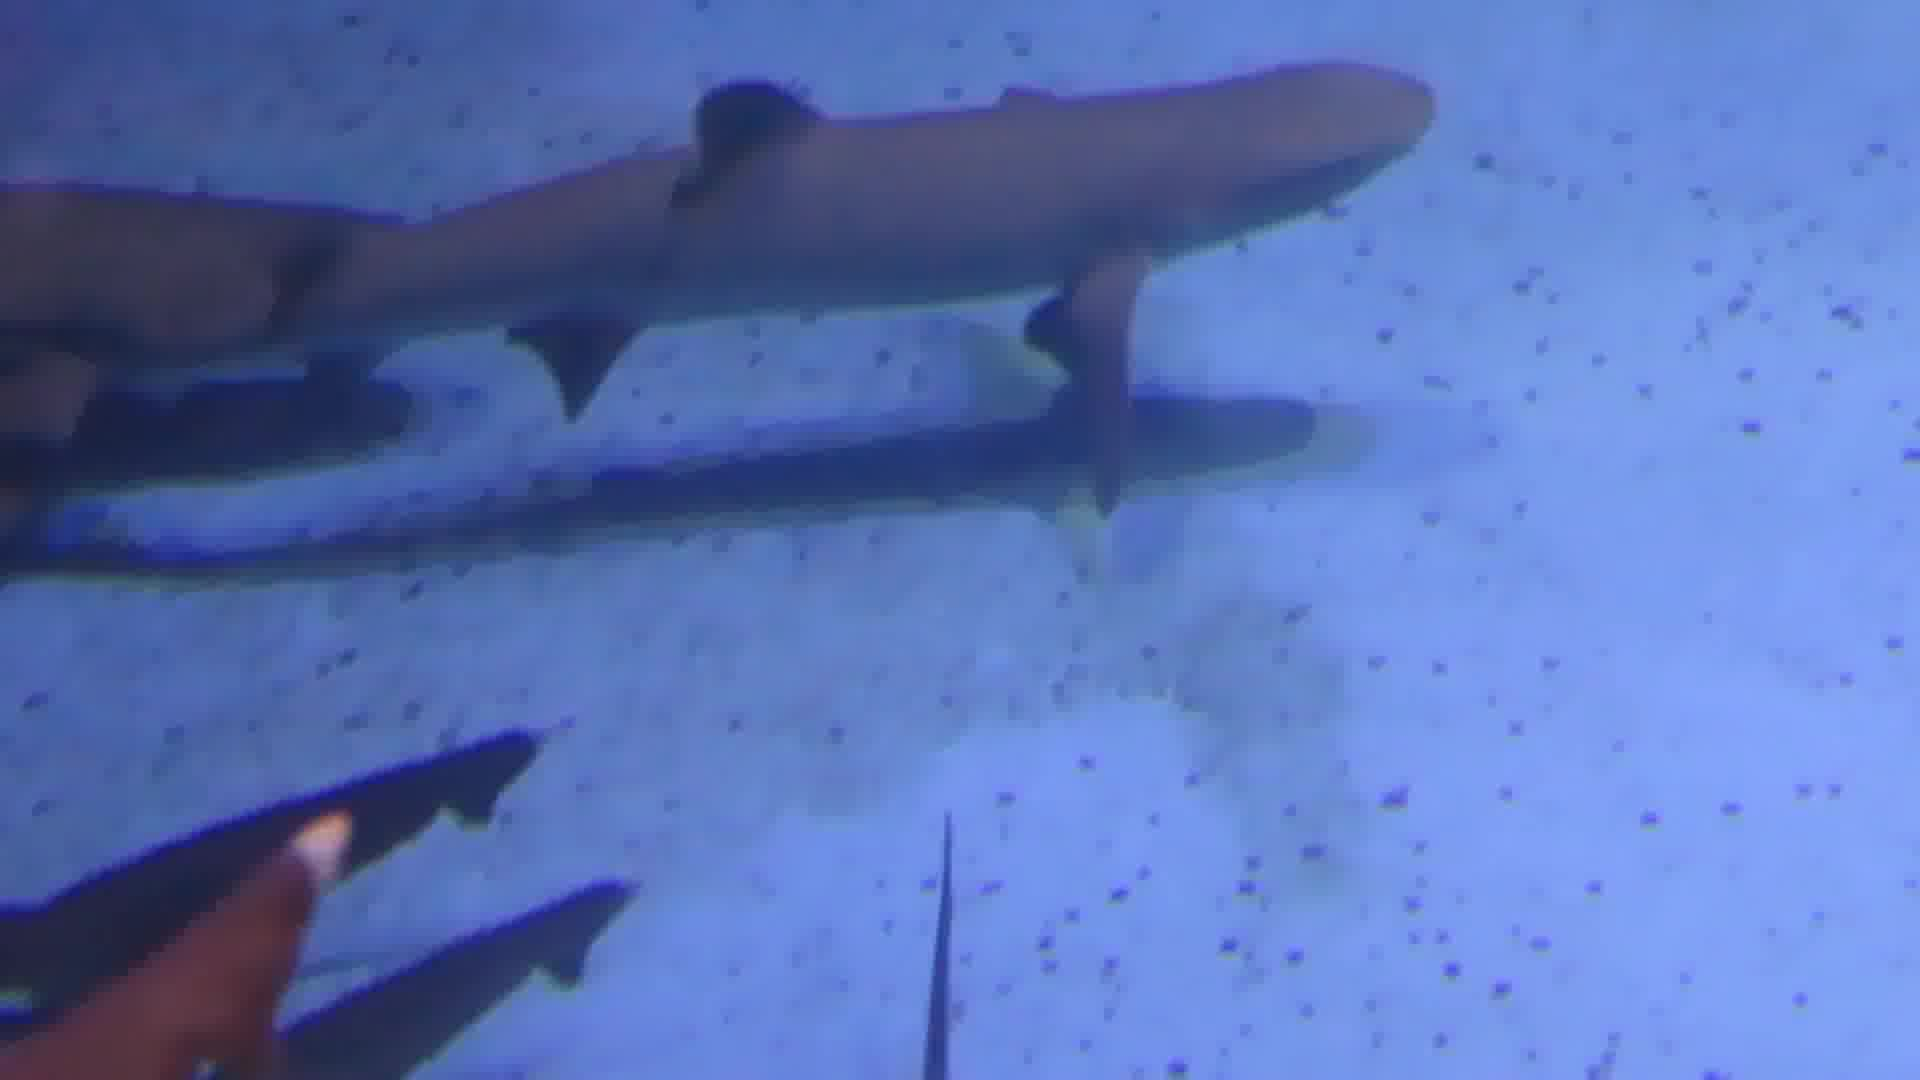Triaenodon obesus: (76, 28, 1451, 381)
